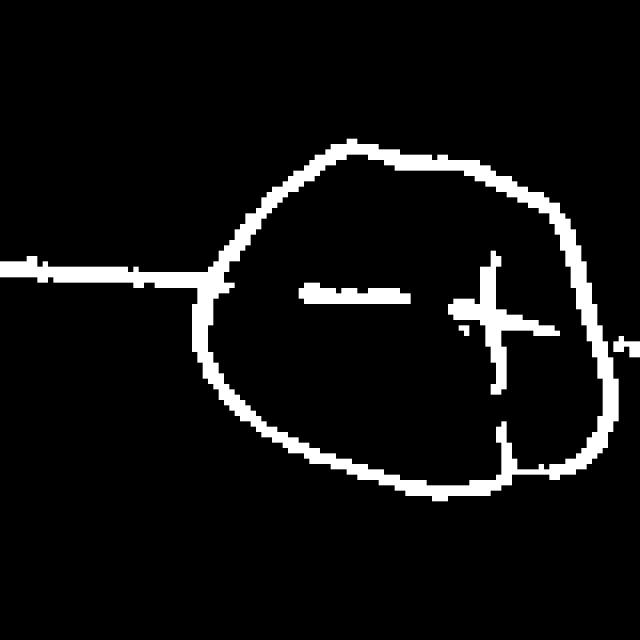voltage_source: (188, 142, 626, 510)
